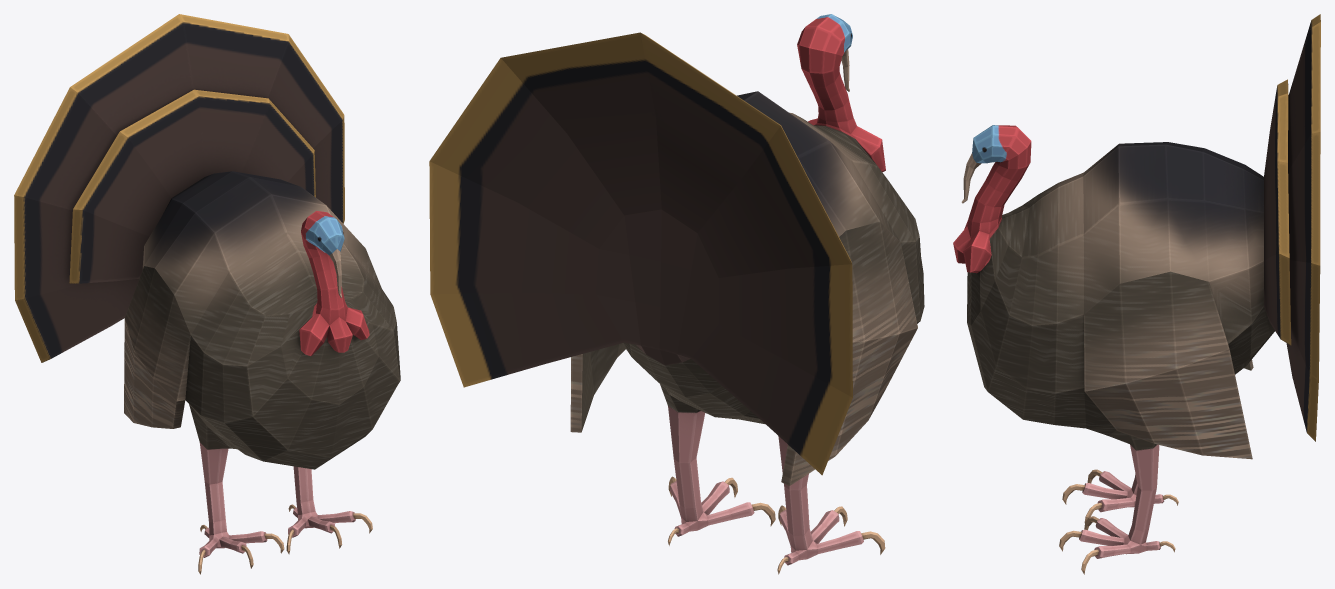
The model's file is 6c89fe72-5703-4d45-ae43-20559acada7a.glb.
The picture shows the model from 3 angles, left to right: view 1: azimuth 30°, elevation 25°; view 2: azimuth 150°, elevation 25°; view 3: azimuth 270°, elevation 25°; orthographic projection. The views are drawn at different scales.
Visible parts, largest first — view 1: Turkey_mesh; view 2: Turkey_mesh; view 3: Turkey_mesh.
Boxes of the visible parts, box(x1,y1,x2,y2) form: Turkey_mesh: box(14, 14, 400, 574); Turkey_mesh: box(429, 14, 924, 574); Turkey_mesh: box(953, 14, 1320, 574).
Size of the model in its own units: 9.47 by 12.73 by 8.29.
Materials: 1 (1 with a texture image).
